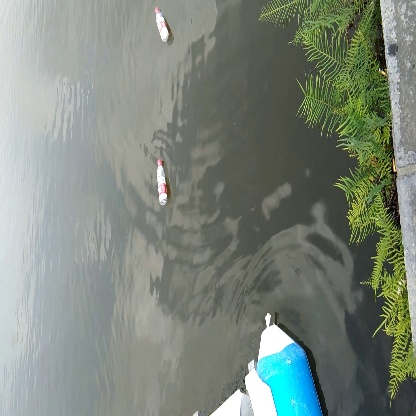bottle: (154, 157, 171, 210), (154, 3, 171, 41)
